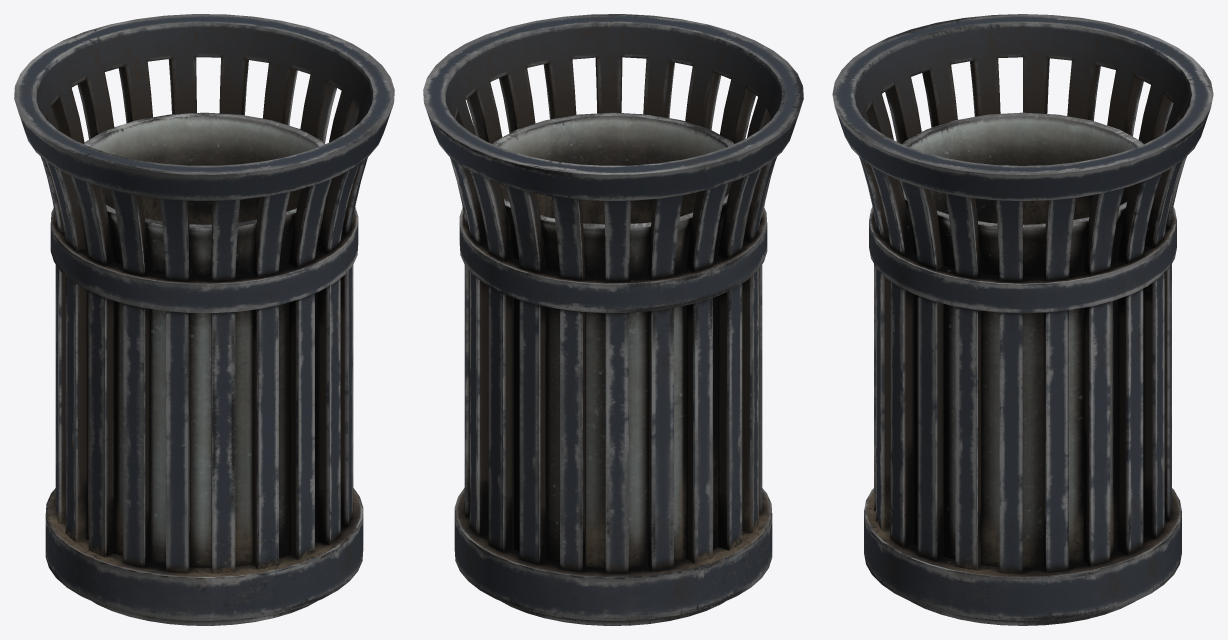
File: trashcan.fbx
3 renders of one model, left to right at view 1: azimuth 30°, elevation 25°; view 2: azimuth 150°, elevation 25°; view 3: azimuth 270°, elevation 25°, orthographic.
Parts seen in each view (by area): view 1: Trashcan; view 2: Trashcan; view 3: Trashcan.
Part boxes in pixels (bbox=[...]): Trashcan: bbox=[14, 14, 394, 625]; Trashcan: bbox=[423, 14, 803, 625]; Trashcan: bbox=[832, 14, 1213, 625].
Bounding box in the file's own units: 357 × 488 × 357.
